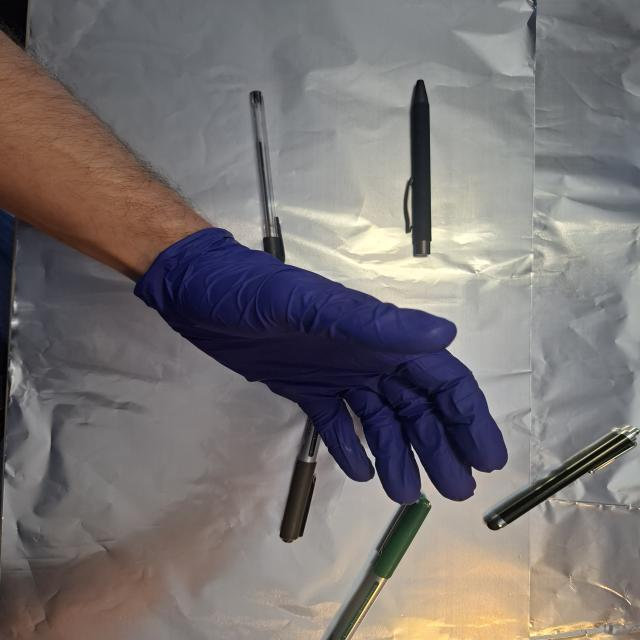glove_on: (135, 226, 513, 509)
